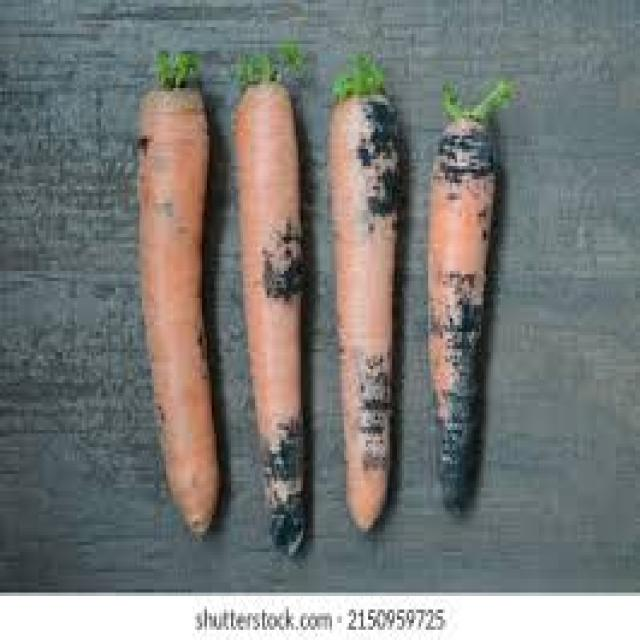Stale_Carrot: (316, 64, 406, 502), (420, 85, 510, 489), (239, 68, 304, 548)
